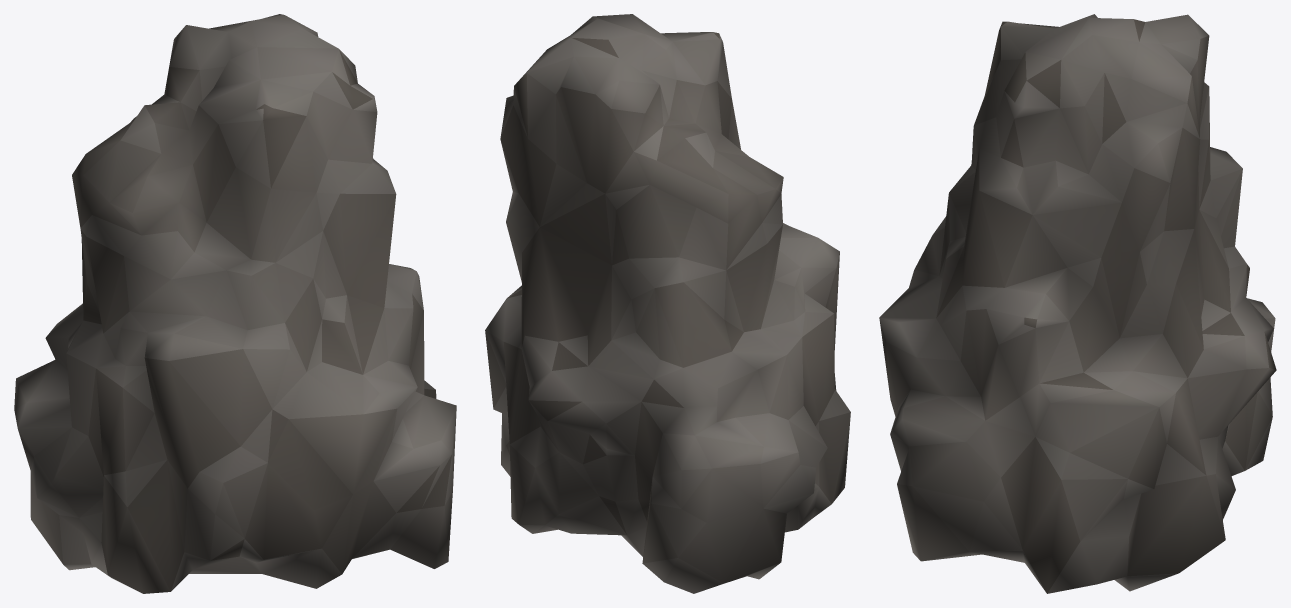
3 views of the same model, side by side, from view 1: azimuth 30°, elevation 25°; view 2: azimuth 150°, elevation 25°; view 3: azimuth 270°, elevation 25° (orthographic). The views are drawn at different scales.
Parts seen in each view (by area): view 1: Rock2E_LP:polySurface1; view 2: Rock2E_LP:polySurface1; view 3: Rock2E_LP:polySurface1.
Boxes of the visible parts, left/top/right/bottom form: Rock2E_LP:polySurface1: left=14, top=14, right=456, bottom=593; Rock2E_LP:polySurface1: left=485, top=14, right=850, bottom=593; Rock2E_LP:polySurface1: left=879, top=14, right=1276, bottom=593.
Size of the model in its own units: 0.102 by 0.1395 by 0.0943.
